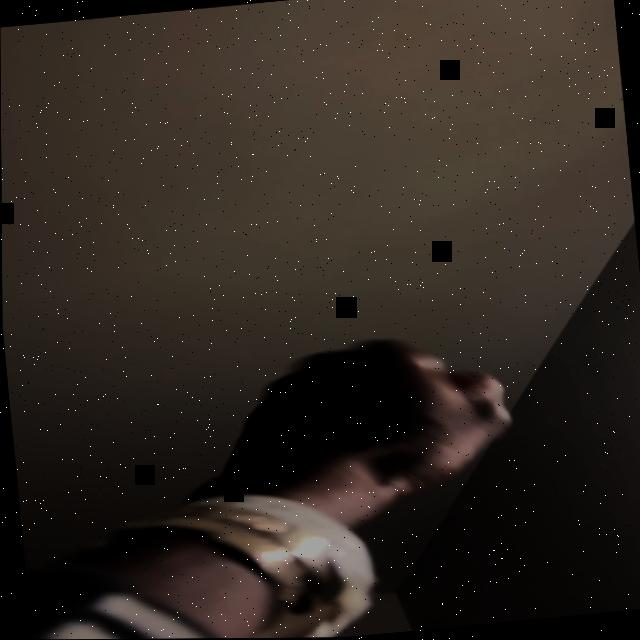Rock: (198, 326, 521, 524)
